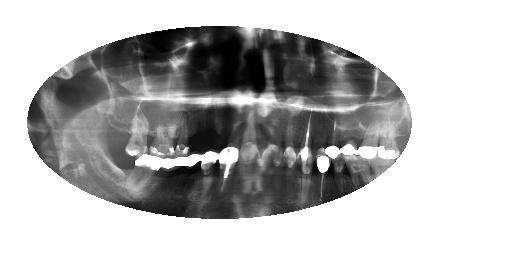i10healthy: (218, 143, 238, 206)
i11healthy: (197, 149, 217, 207)
i12loss: (179, 153, 202, 203)
i13loss: (158, 155, 182, 206)
i14healthy: (127, 150, 160, 202)
i15loss: (108, 148, 135, 187)
i3healthy: (342, 154, 372, 187)
i4decay: (331, 155, 347, 191)
i5healthy: (312, 156, 329, 203)
i6healthy: (295, 157, 311, 209)
i7decay: (281, 162, 296, 205)
i8loss: (262, 162, 279, 208)
i9decay: (239, 163, 262, 213)
u10healthy: (238, 106, 259, 167)
u11decay: (220, 105, 244, 151)
u12loss: (190, 110, 220, 153)
u13healthy: (175, 109, 191, 155)
u14healthy: (146, 112, 178, 158)
u15healthy: (121, 100, 150, 157)
u2healthy: (376, 118, 401, 162)
u3healthy: (357, 116, 381, 161)
u4loss: (340, 114, 360, 158)
u5healthy: (323, 106, 341, 158)
u6loss: (311, 107, 328, 157)
u7healthy: (296, 105, 316, 162)
u8healthy: (280, 108, 300, 170)
u9healthy: (256, 111, 283, 171)
